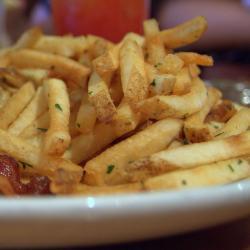fries: (7, 42, 190, 182)
